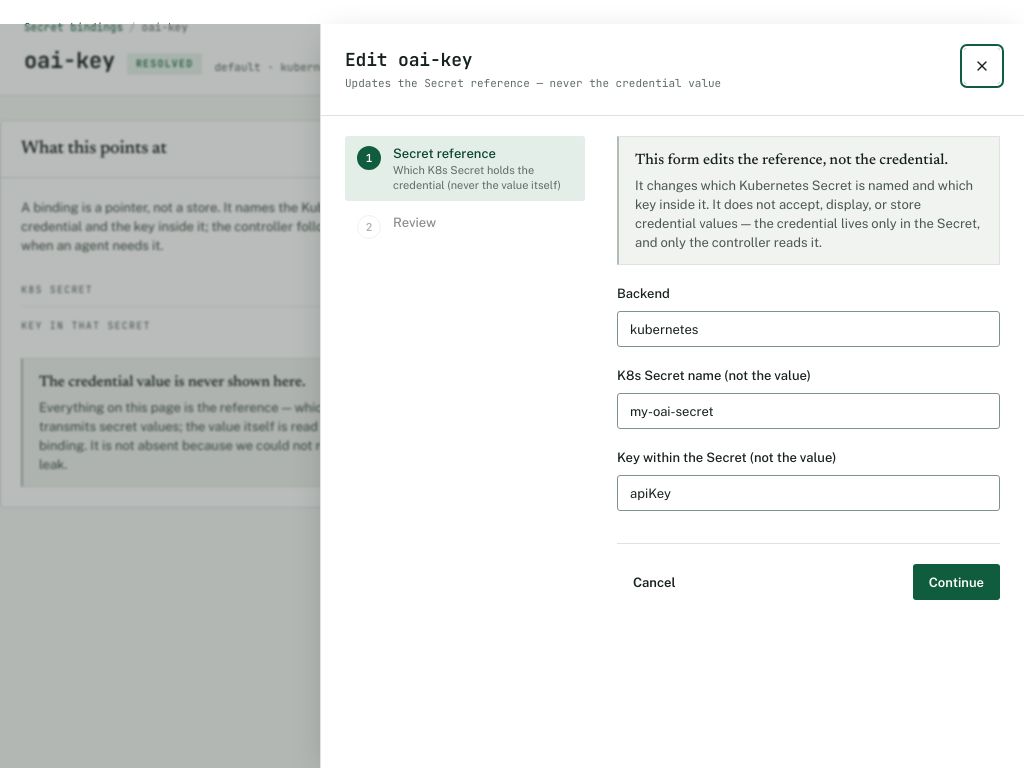
Scenario: SecretBindingDetailPage — archetype A2 (M151) › renders no secret value after a successful save
Replace the text in the field with test id "edit-sb-secret-name" with "rotated-secret" at x=808, y=411, box [617,393,1000,429]
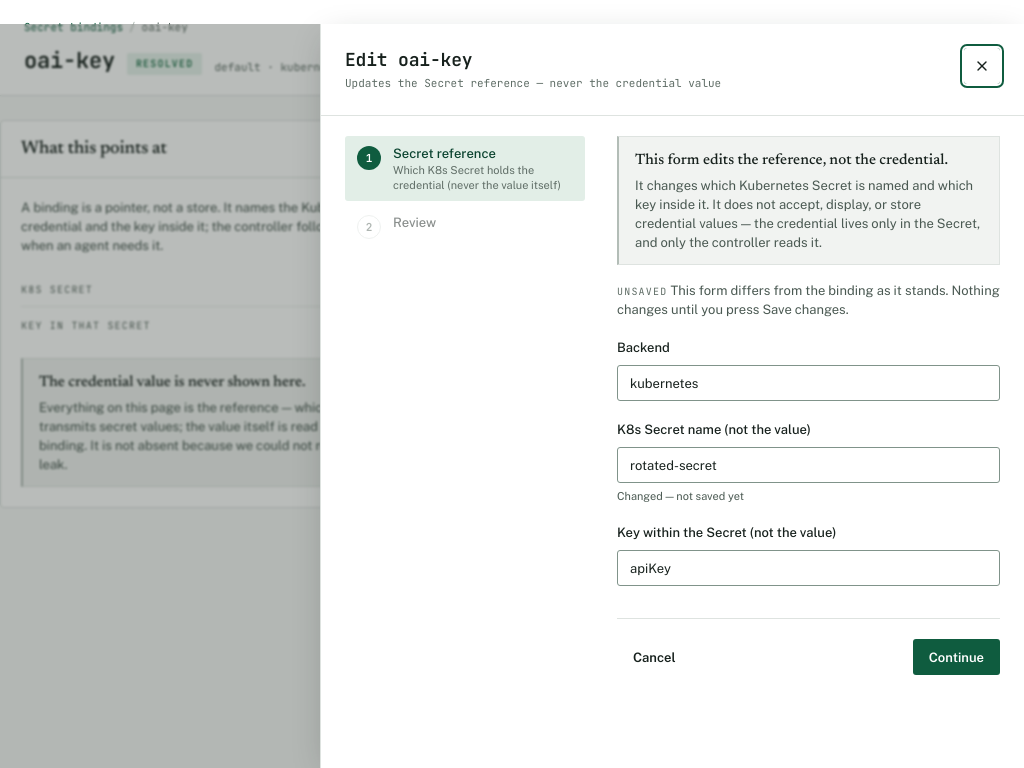
Click the button "Continue" at x=956, y=657, box [913,639,1000,675]
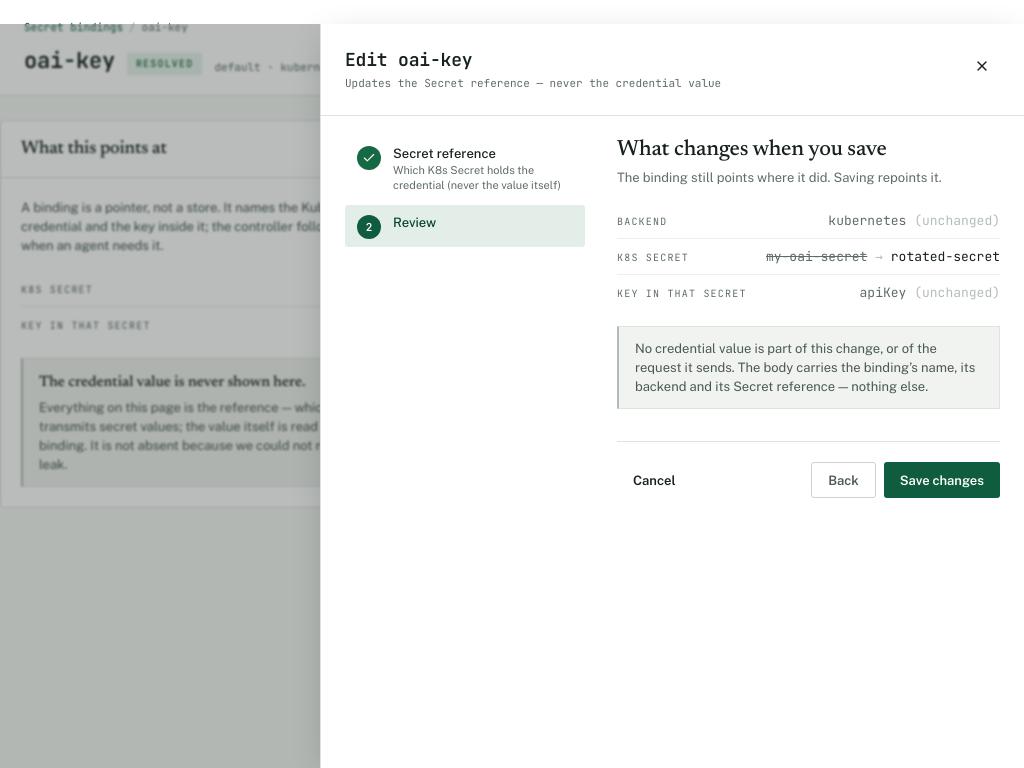
Check: the element with test id "secret-edit-review" is shown, box [617,136,1000,409]
Click the button "Save changes" at x=942, y=480, box [884,462,1000,498]
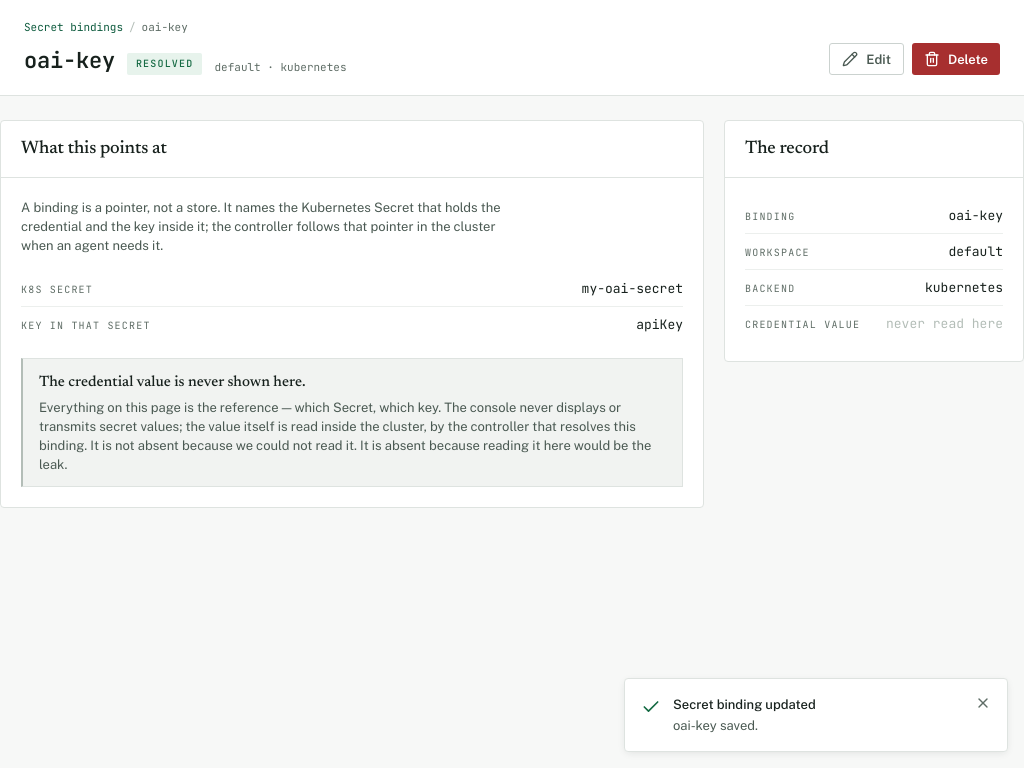
Check: the element with test id "secret-edit-review" is gone
